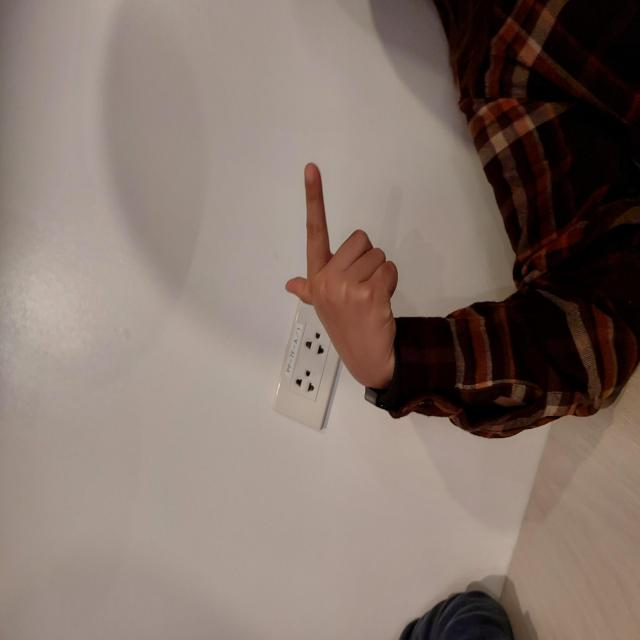G: (246, 281, 482, 401)
